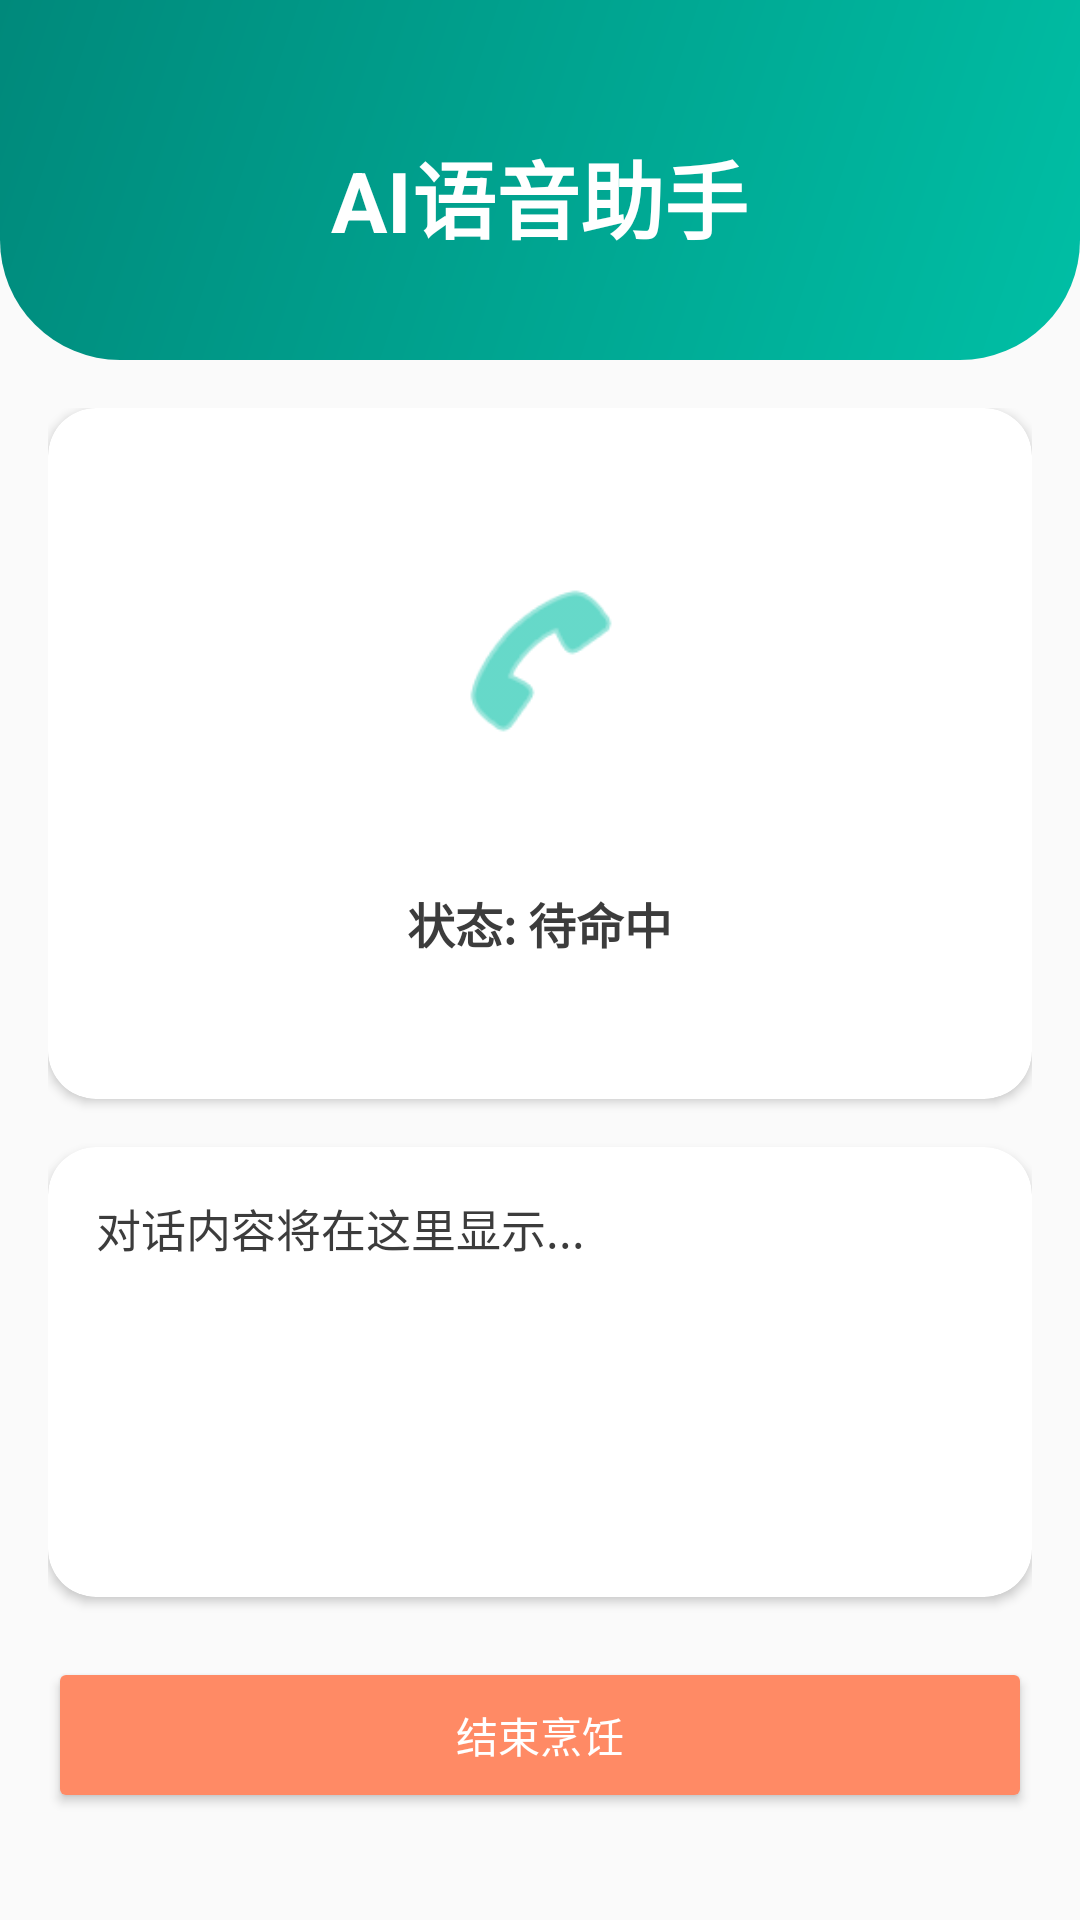

Icons on this 1080 × 1920 Android screen, each with its box as bbox(x1, y1, x2, y2):
call: bbox(470, 590, 612, 731)
